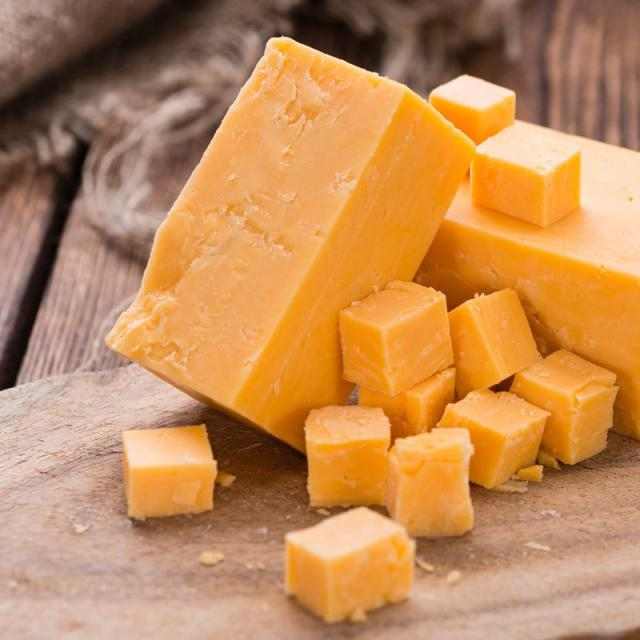Cheese: (101, 35, 491, 459), (410, 59, 640, 438), (331, 270, 560, 493), (429, 72, 589, 234), (261, 498, 419, 636), (99, 403, 226, 523), (304, 405, 403, 509), (389, 426, 478, 540)
